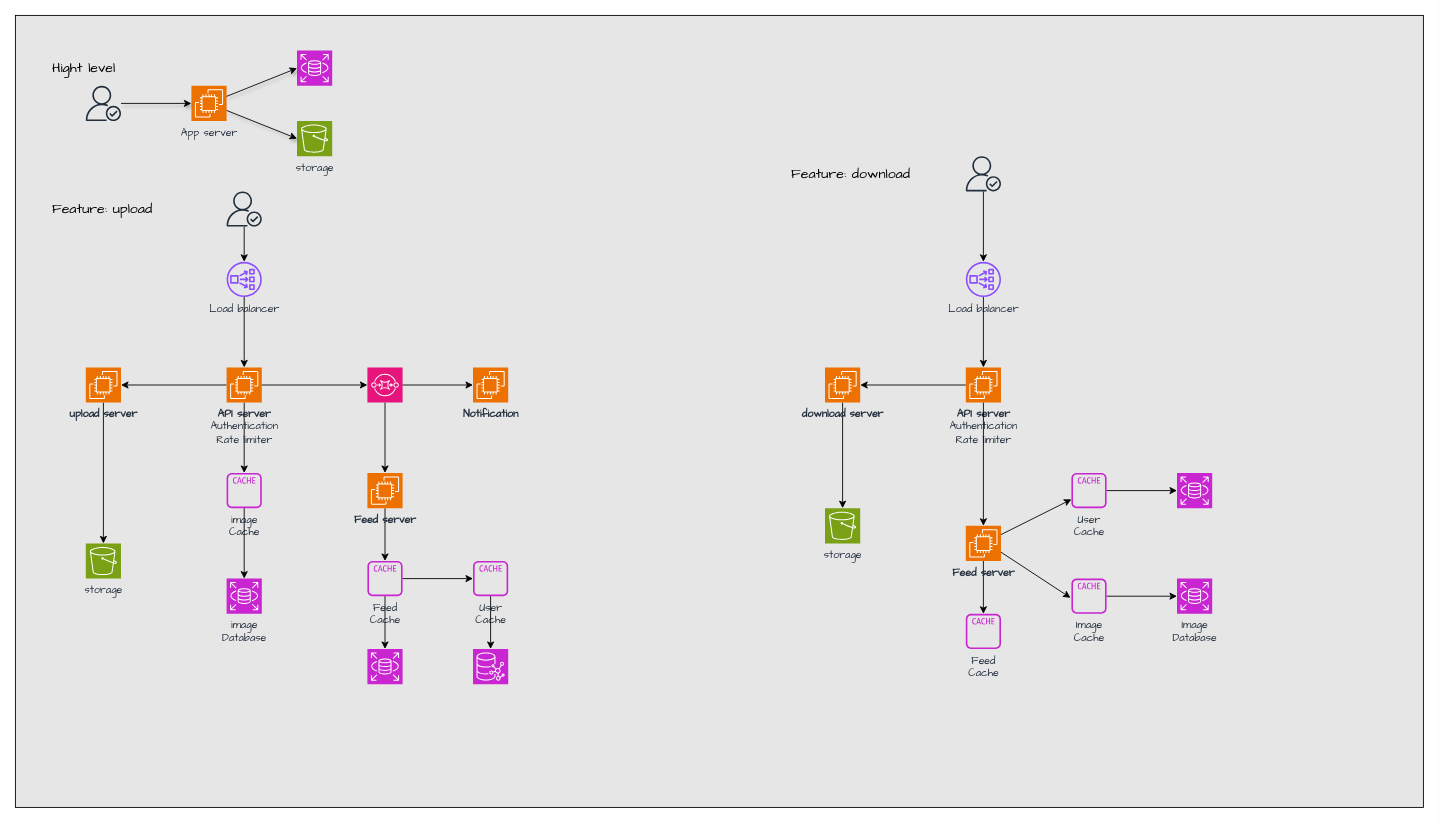
Some shapes in this 1439 by 823 pixel diagram are drawn without their labels. The centre of each missing label's shape, as x and y in pixels:
"database" belongs at (314,68).
"Feed Database" belongs at (385,666).
"MQ" belongs at (385,385).
"User Database" belongs at (1194,490).
"user graph" belongs at (490,666).
